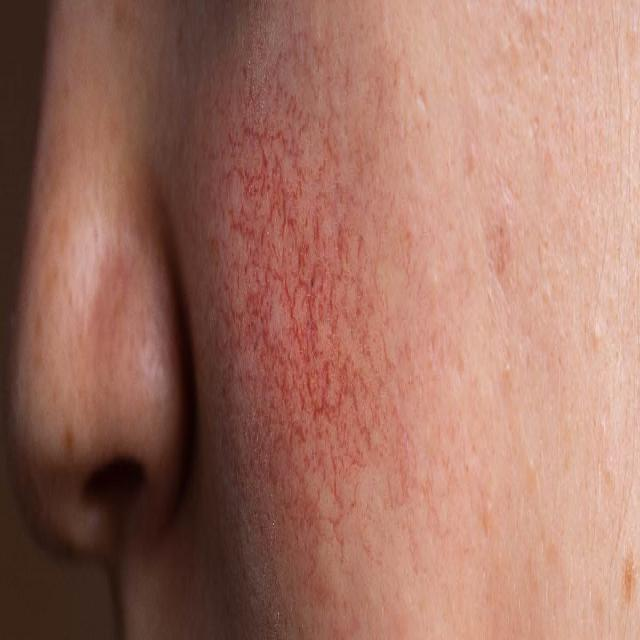Rosacea: (208, 111, 380, 517)
